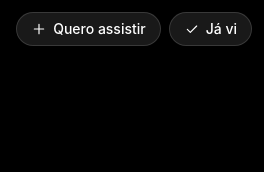
Scenario: MarkButtons: clicar em Já vi marca como assistido
Click the button "Já vi": (210, 29) [169, 12, 252, 46]
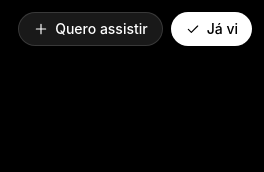
Check: the button "Já vi" is pressed, box [171, 12, 252, 46]
